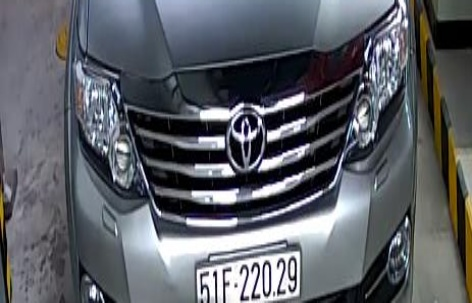plate: (190, 250, 302, 302)
